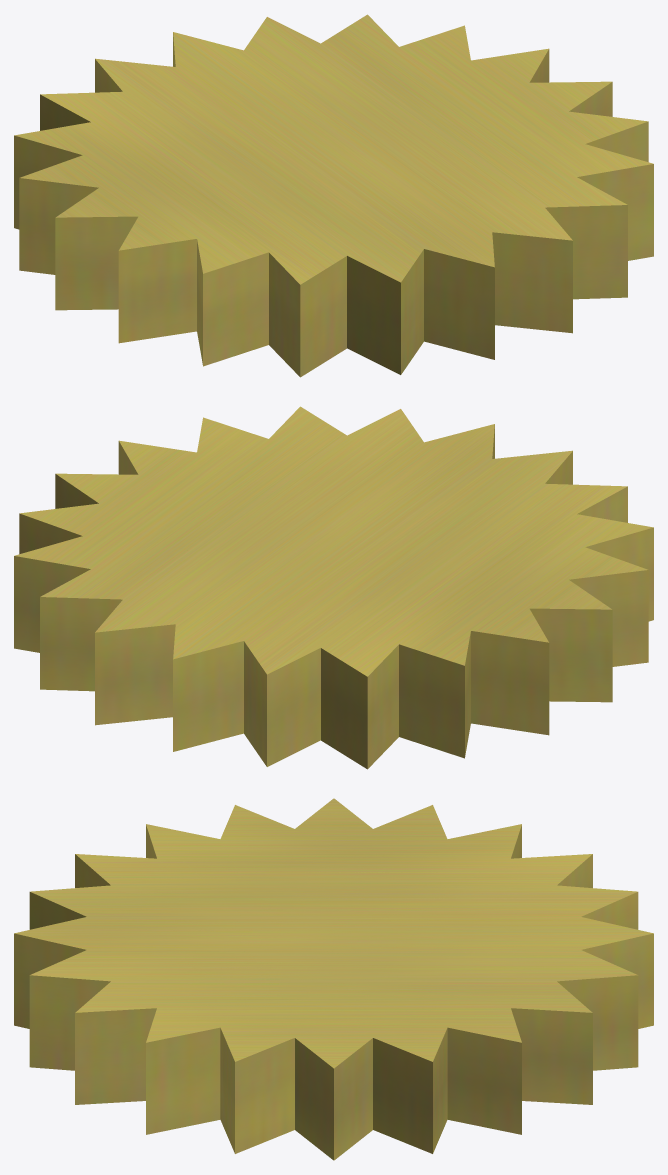
Rendered from ClockStraight6Spoke020.fbx.
The picture shows the model from 3 angles, top to bottom: view 1: azimuth 30°, elevation 25°; view 2: azimuth 150°, elevation 25°; view 3: azimuth 270°, elevation 25°; orthographic projection.
Visible parts, largest first — view 1: ClockStraight6Spoke020; view 2: ClockStraight6Spoke020; view 3: ClockStraight6Spoke020.
Part boxes in pixels (x1,y1,x2,y2): ClockStraight6Spoke020: (14,14,653,377); ClockStraight6Spoke020: (14,406,653,769); ClockStraight6Spoke020: (14,798,653,1160).
Bounding box in the file's own units: 124 × 19.69 × 124.
